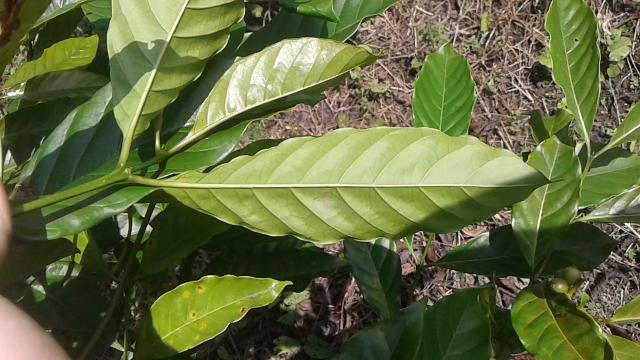healthy: (158, 120, 570, 244)
